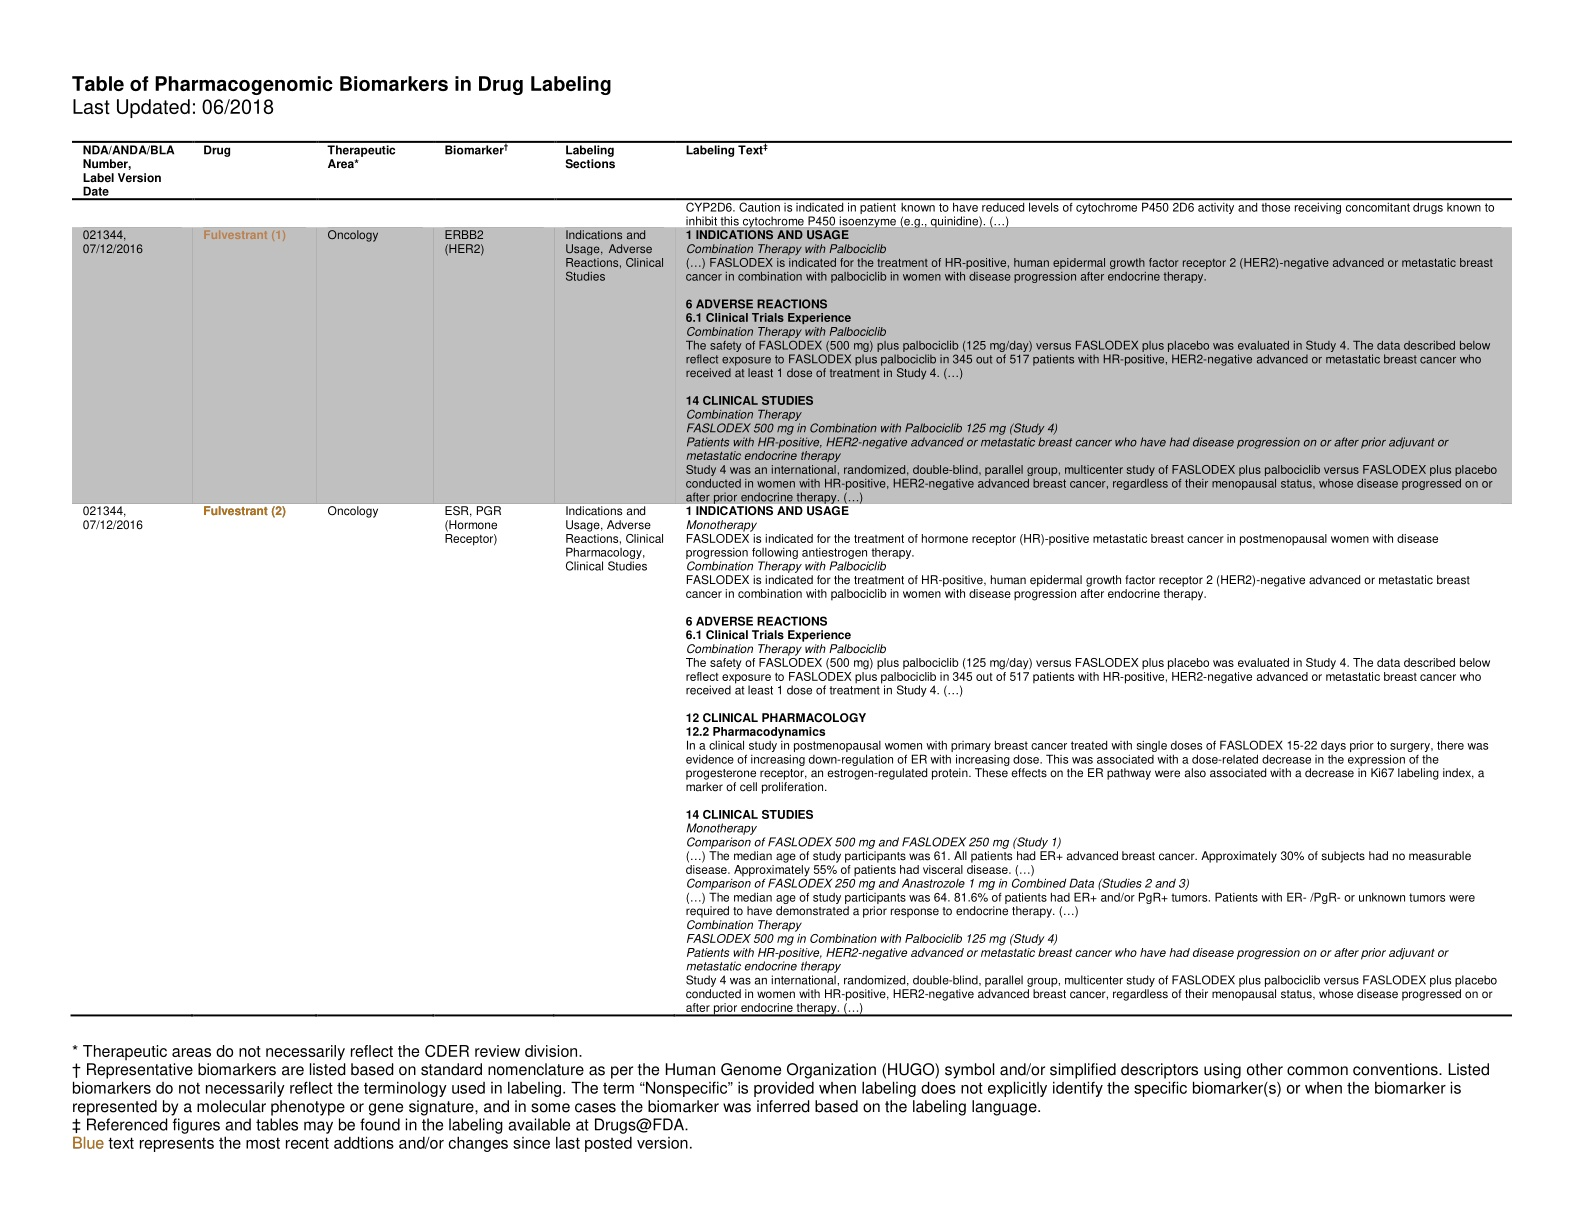partial_lined: (69, 140, 1515, 1017)
